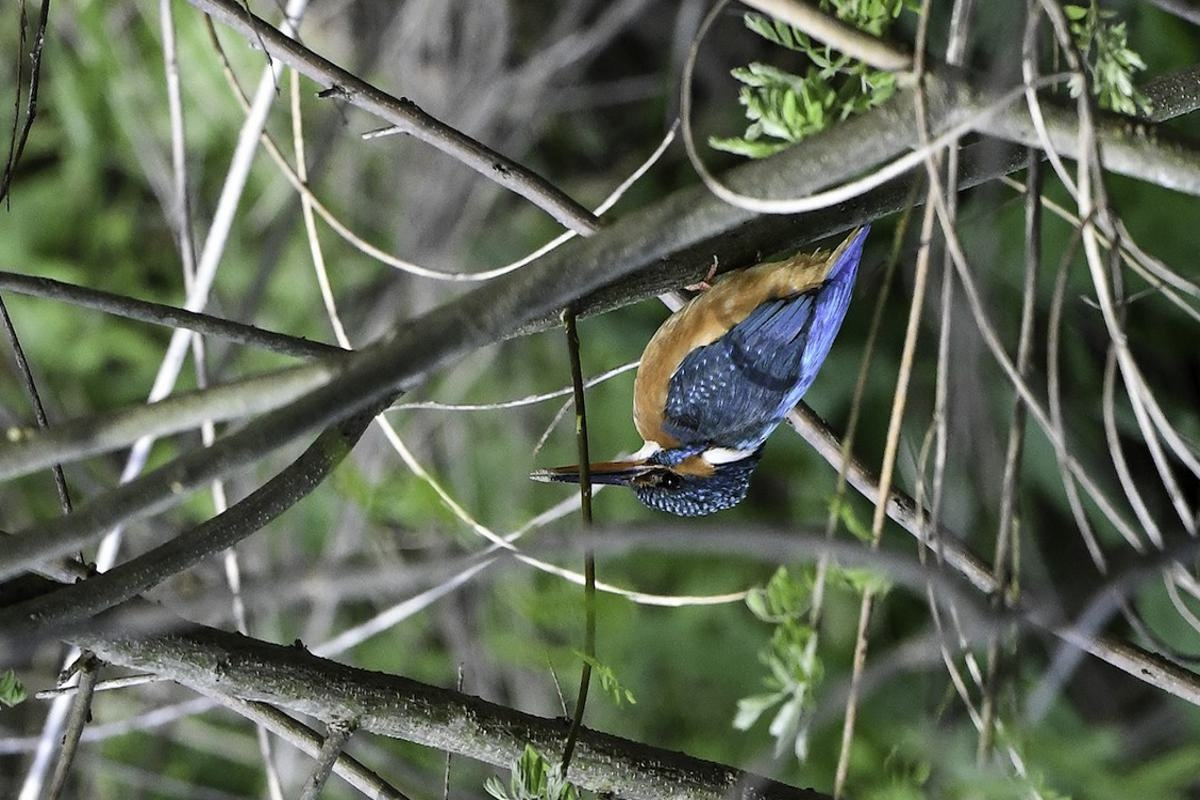kingfisher: (560, 221, 903, 570)
